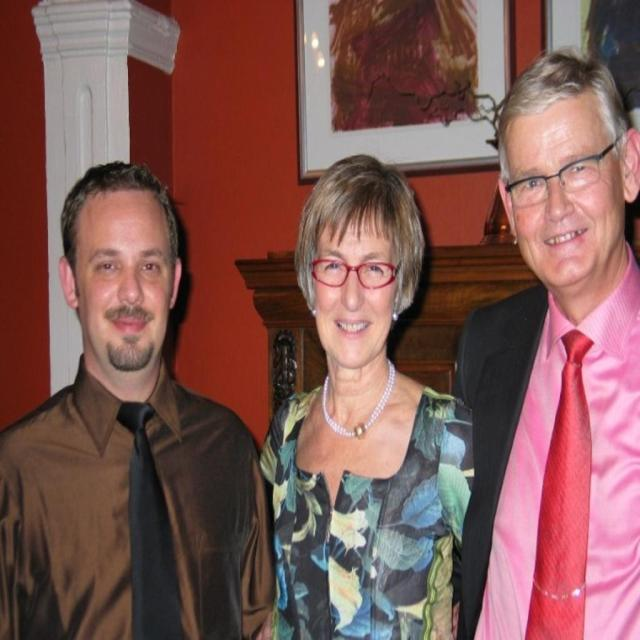Face: (67, 193, 189, 377), (505, 105, 627, 277), (308, 218, 403, 361)
